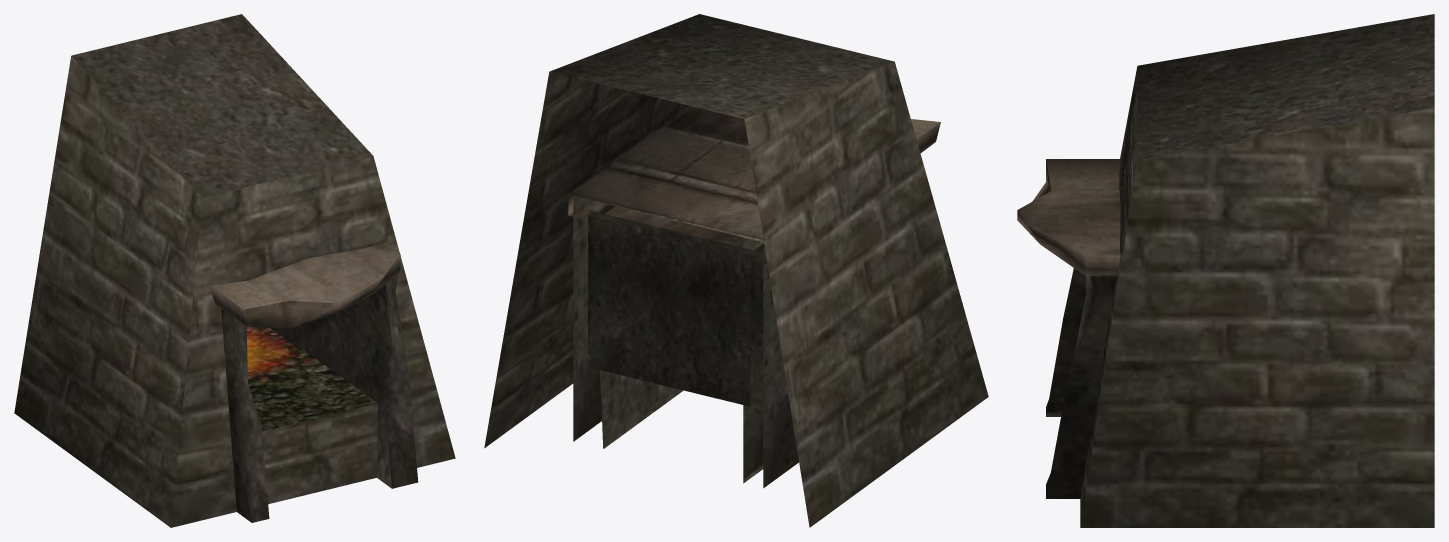
The model's file is OC_LOB_FIREPLACE_HUGE.glb.
The picture shows the model from 3 angles, left to right: view 1: azimuth 30°, elevation 25°; view 2: azimuth 150°, elevation 25°; view 3: azimuth 270°, elevation 25°; orthographic projection. The views are drawn at different scales.
Parts seen in each view (by area): view 1: Mesh; view 2: Mesh; view 3: Mesh.
Boxes of the visible parts, x1,y1,x2,y2 form: Mesh: (14,14,455,527); Mesh: (484,14,988,527); Mesh: (1017,14,1434,527).
Bounding box in the file's own units: 1.3 × 1.5 × 1.46.
1 material, 1 textured.
